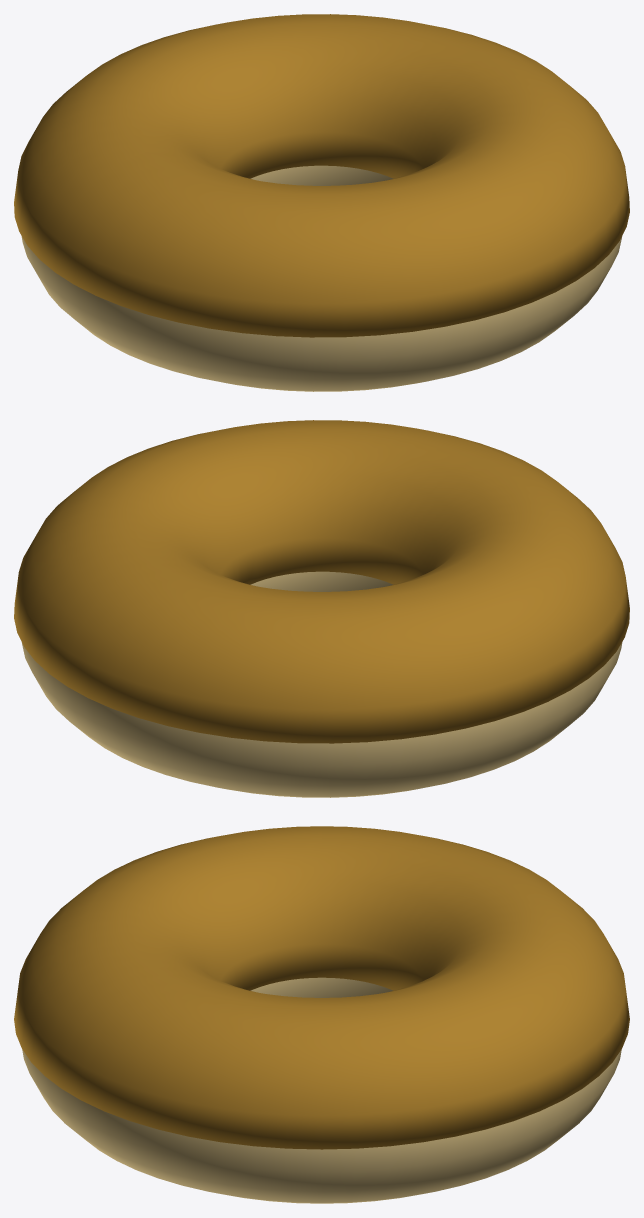
3 renders of one model, top to bottom at view 1: azimuth 30°, elevation 25°; view 2: azimuth 150°, elevation 25°; view 3: azimuth 270°, elevation 25°, orthographic.
Visible parts, largest first — view 1: Torus.002, Torus.001; view 2: Torus.002, Torus.001; view 3: Torus.002, Torus.001.
Part boxes in pixels (left/top/right/bottom): Torus.002: left=14, top=14, right=629, bottom=337; Torus.001: left=21, top=165, right=622, bottom=391; Torus.002: left=14, top=420, right=629, bottom=743; Torus.001: left=21, top=571, right=622, bottom=797; Torus.002: left=14, top=826, right=629, bottom=1149; Torus.001: left=22, top=977, right=621, bottom=1203.
Size of the model in its own units: 3.03 by 1.02 by 3.03.
